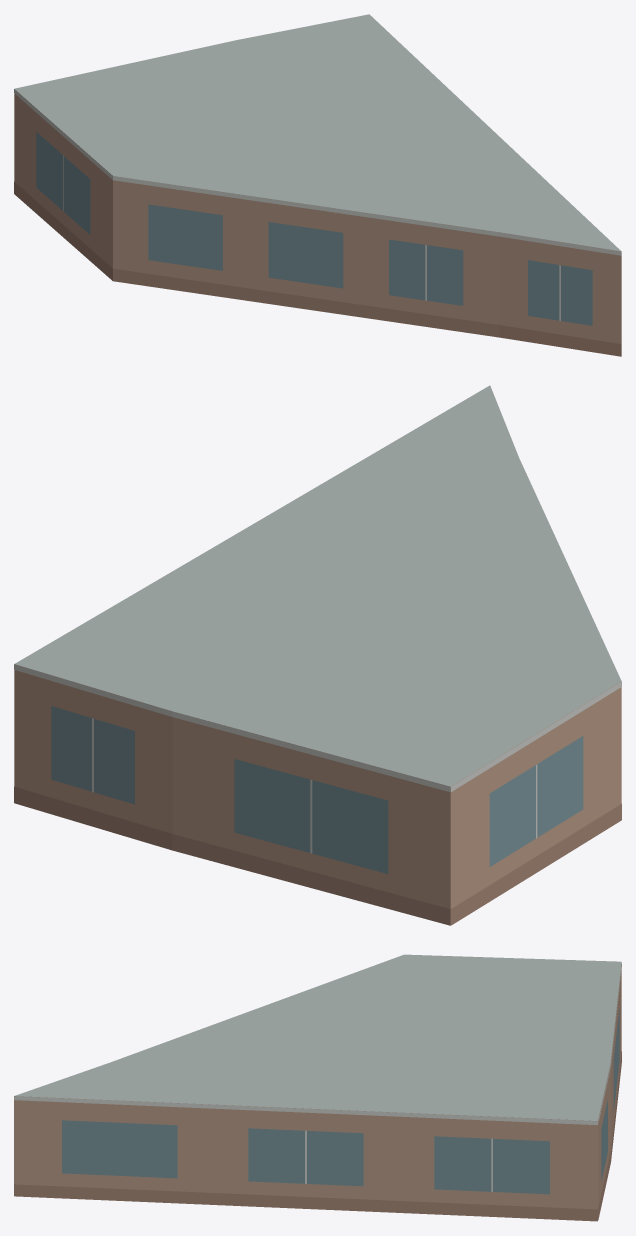
Rendered from survey-upis-32732207.glb.
3 renders of one model, top to bottom at view 1: azimuth 30°, elevation 25°; view 2: azimuth 150°, elevation 25°; view 3: azimuth 270°, elevation 25°, orthographic. The views are drawn at different scales.
Parts seen in each view (by area): view 1: survey-upis-32732207.tmp; view 2: survey-upis-32732207.tmp; view 3: survey-upis-32732207.tmp.
Part boxes in pixels (x1,y1,x2,y2): survey-upis-32732207.tmp: (14,14,621,356); survey-upis-32732207.tmp: (14,385,621,925); survey-upis-32732207.tmp: (14,954,621,1221).
Size of the model in its own units: 10.87 by 3.05 by 16.76.
